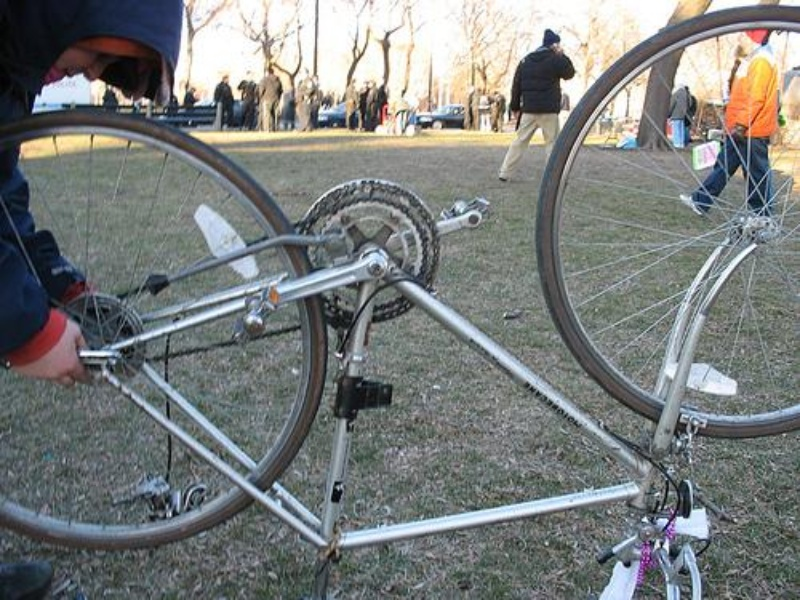hands: (14, 310, 84, 384)
